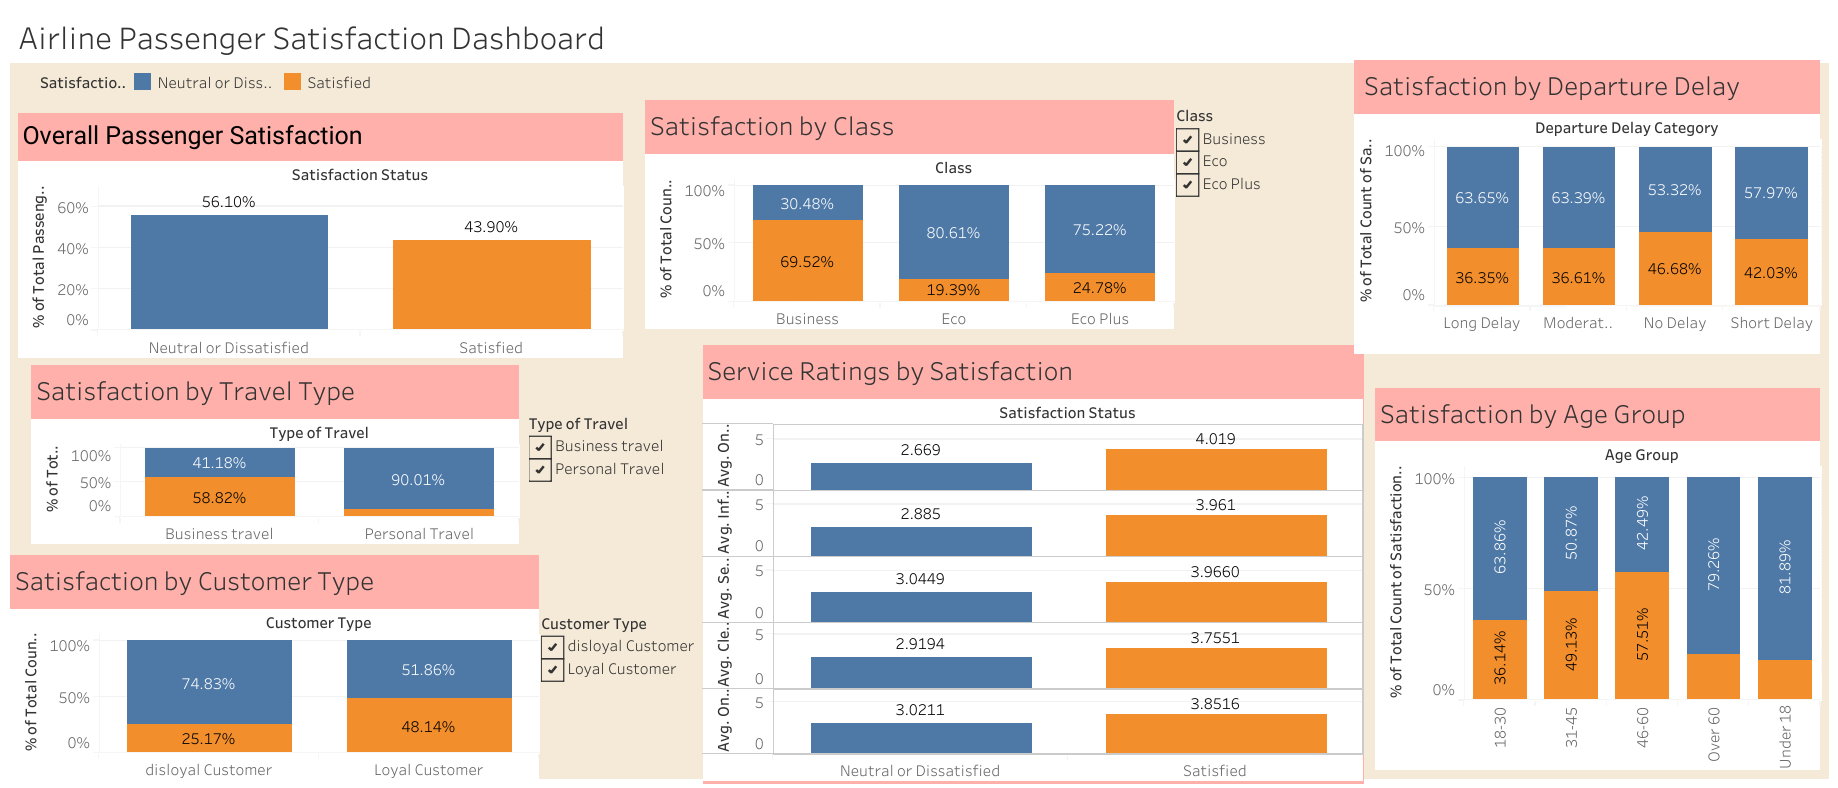

The page's visual inventory and layout, read from the dashboard file:
{"tool":"tableau","page":{"name":"Airline Passenger Satisfaction Dashboard","canvas":[1000,1000],"units":"permille","ordinal":0},"visuals":[{"type":"title","box":[4.8,8.8,990.3,54.9]},{"type":"worksheet","title":" Satisfaction by Departure Delay","mark":"Automatic","cols":["Departure Delay Category"],"box":[736.3,76.8,253.5,371]},{"type":"legend","title":"Satisfaction by Travel Type","param":"[federated.18ylrng1biqg9g1b1sy8v1sc2e70].[none:Calculation_0516540264132609:nk]","box":[21.7,87.8,208.8,50.5]},{"type":"worksheet","title":"Satisfaction by Class","mark":"Automatic","cols":["Class"],"box":[350.6,126.2,287.9,289.8]},{"type":"filter","title":"Satisfaction by Class","param":"[federated.18ylrng1biqg9g1b1sy8v1sc2e70].[none:Class:nk]","box":[639.7,130.6,70,194.3]},{"type":"worksheet","title":"Overall Satisfaction","mark":"Automatic","rows":["Calculation_0516540266434562"],"cols":["Calculation_0516540264132609"],"box":[9.7,142.7,328.9,310.7]},{"type":"worksheet","title":"Service Ratings by Satisfaction","mark":"Automatic","rows":["Online boarding","Inflight entertainment","Seat comfort","Cleanliness","On-board service"],"cols":["Calculation_0516540264132609"],"box":[382,436.9,359.7,556.5]},{"type":"worksheet","title":"Satisfaction by Travel Type","mark":"Automatic","cols":["Type of Travel"],"box":[16.9,463.2,264.9,226.1]},{"type":"worksheet","title":"Satisfaction by Age Group","mark":"Automatic","cols":["Age Group"],"box":[747.7,490.7,242,485.2]},{"type":"filter","title":"Satisfaction by Travel Type","param":"[federated.18ylrng1biqg9g1b1sy8v1sc2e70].[none:Type of Travel:nk]","box":[287.3,519.2,77.9,157]},{"type":"worksheet","title":"Satisfaction by Customer Type","mark":"Automatic","cols":["Customer Type"],"box":[5.4,703.6,287.9,285.4]},{"type":"filter","title":"Satisfaction by Customer Type","param":"[federated.18ylrng1biqg9g1b1sy8v1sc2e70].[none:Customer Type:nk]","box":[294.5,772.8,84.5,126.2]}]}

Visuals, with their boxes on the dashboard's canvas, which has no fixed pixel size, in thousandths of its width and height (x1, y1, x2, y2). These are canvas units, not pixel positions in the 1838x788 screenshot, which may show the page scaled, cropped or inside an application window:
title: 5 9 995 64
" Satisfaction by Departure Delay" worksheet: 736 77 990 448
"Satisfaction by Travel Type" legend: 22 88 230 138
"Satisfaction by Class" worksheet: 351 126 638 416
"Satisfaction by Class" filter: 640 131 710 325
"Overall Satisfaction" worksheet: 10 143 339 453
"Service Ratings by Satisfaction" worksheet: 382 437 742 993
"Satisfaction by Travel Type" worksheet: 17 463 282 689
"Satisfaction by Age Group" worksheet: 748 491 990 976
"Satisfaction by Travel Type" filter: 287 519 365 676
"Satisfaction by Customer Type" worksheet: 5 704 293 989
"Satisfaction by Customer Type" filter: 294 773 379 899
